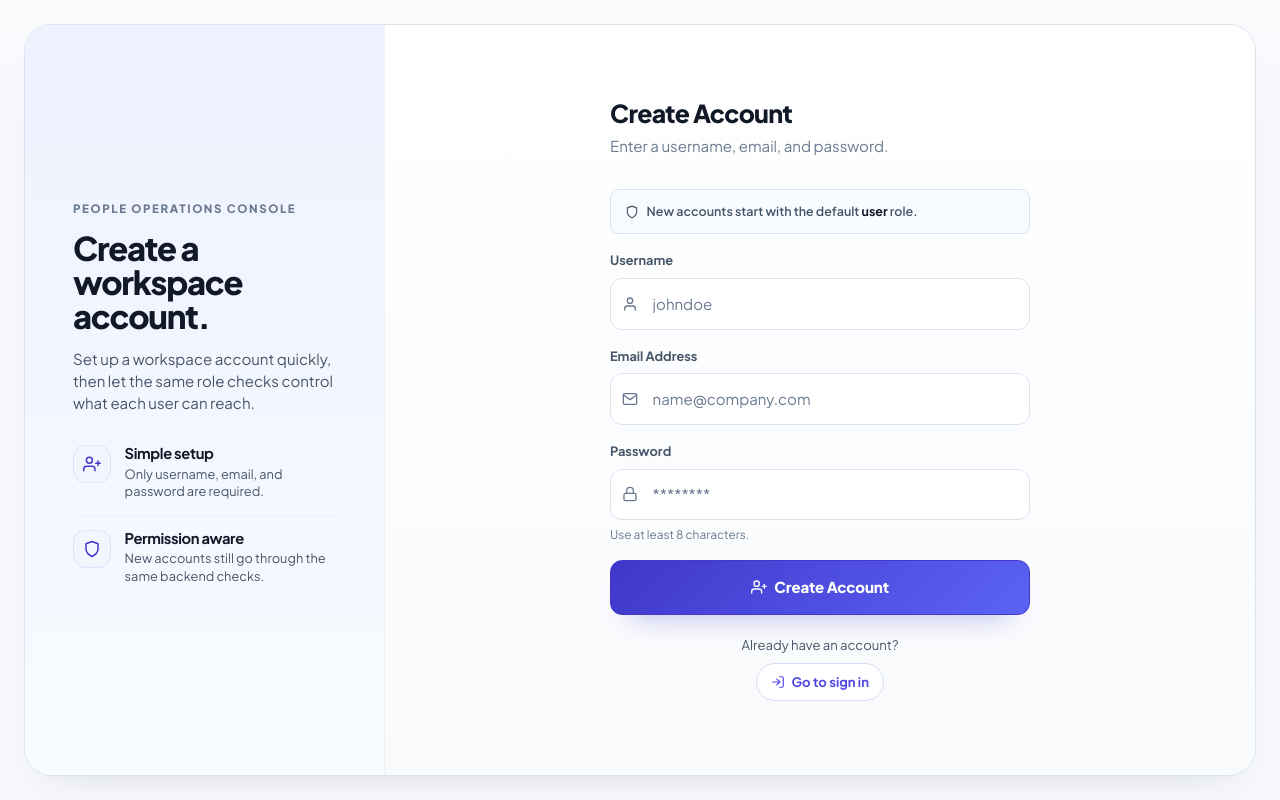
Test case: Register page › blocks submit when the password is too short
The width and height of the screenshot is (1280, 800).
Type "newuser" into the field labelled "Username". click: (820, 304)
box: left=610, top=278, right=1030, bottom=330
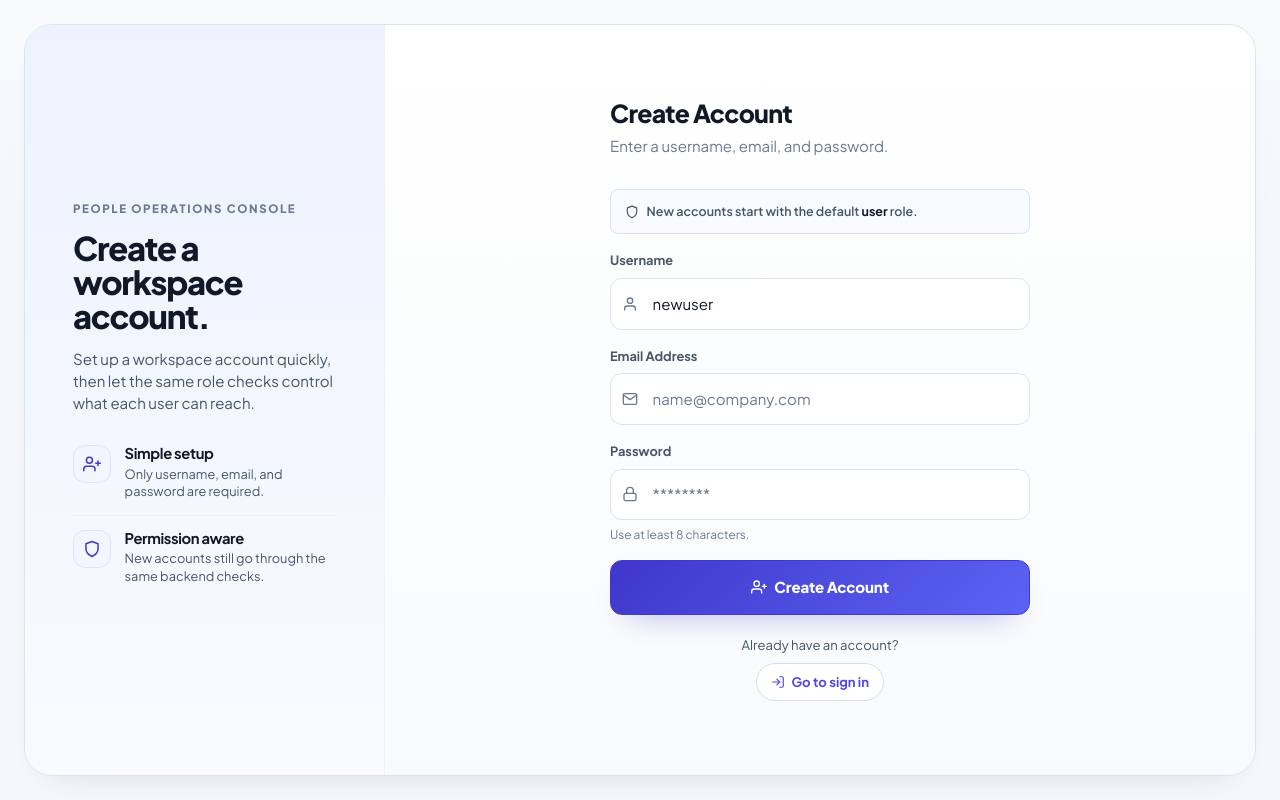
Type "newuser@example.com" into the field labelled "Email Address". click: (820, 399)
box: left=610, top=373, right=1030, bottom=425
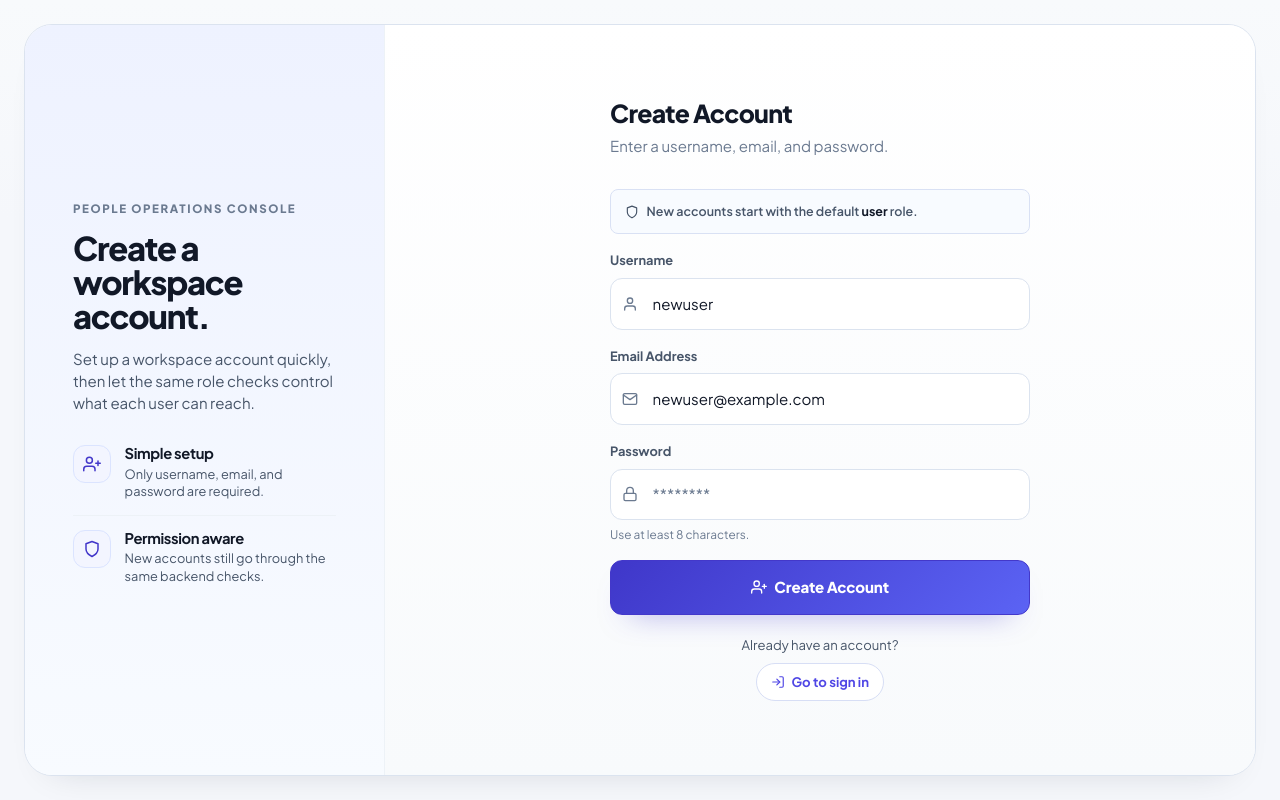
Type "short" into the password field labelled "Password". click: (820, 494)
box: left=610, top=468, right=1030, bottom=520
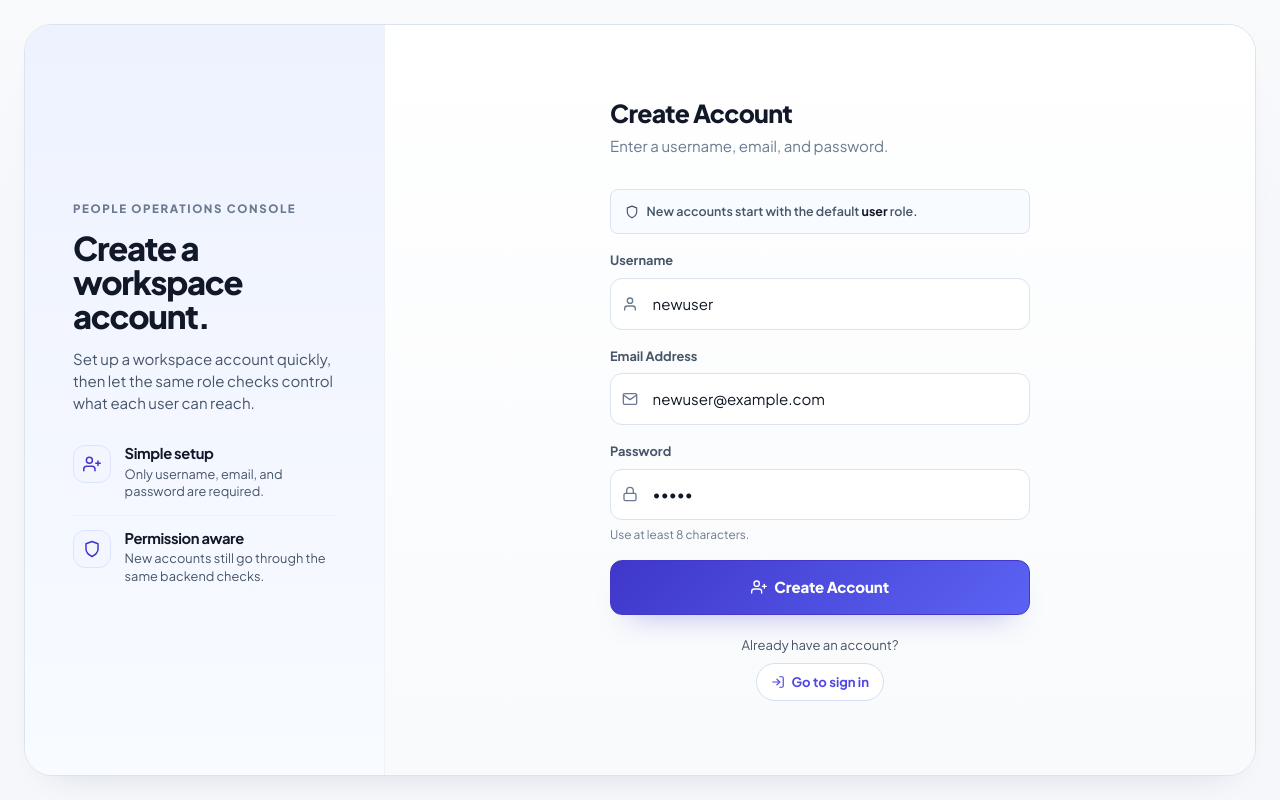
Click the button "Create Account". click: (820, 587)
box: left=610, top=560, right=1030, bottom=615
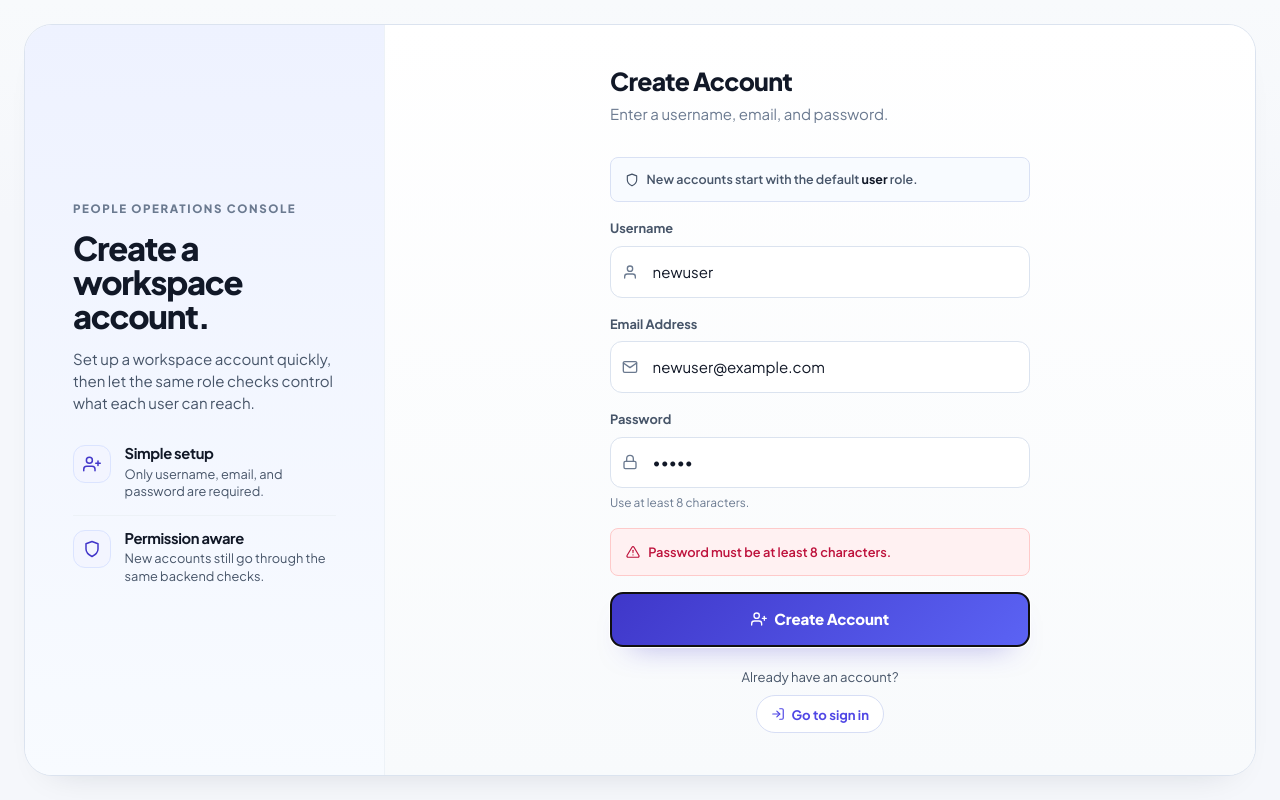
Now the message reads "Password must be at least 8 characters.", box left=648, top=544, right=891, bottom=560
